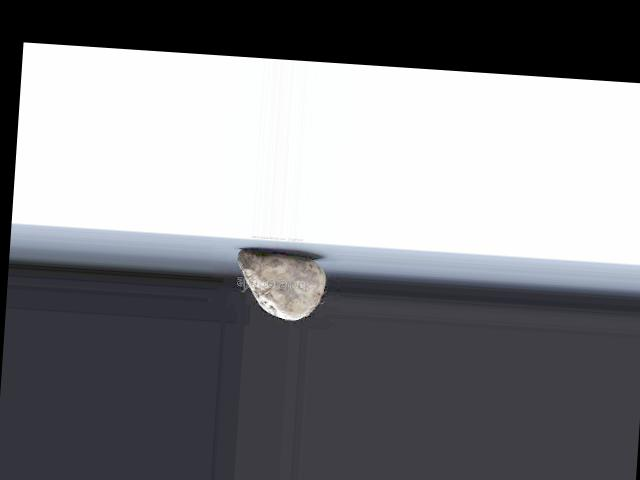beet: (235, 249, 329, 321)
